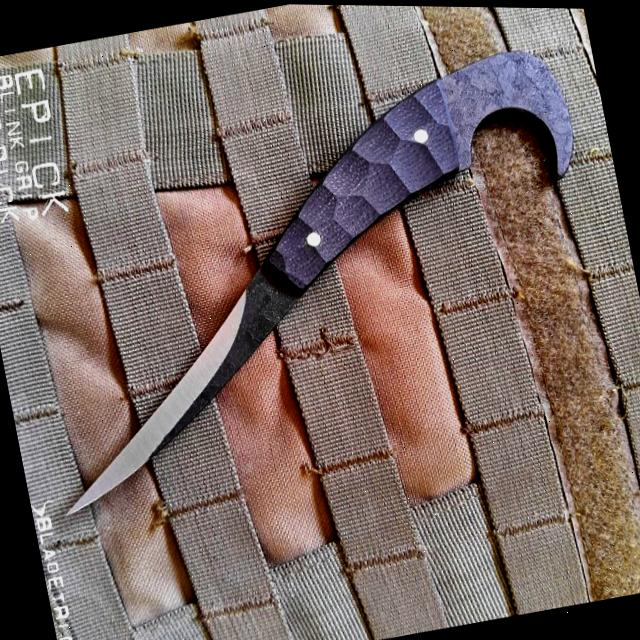ice pick: (0, 37, 627, 525)
